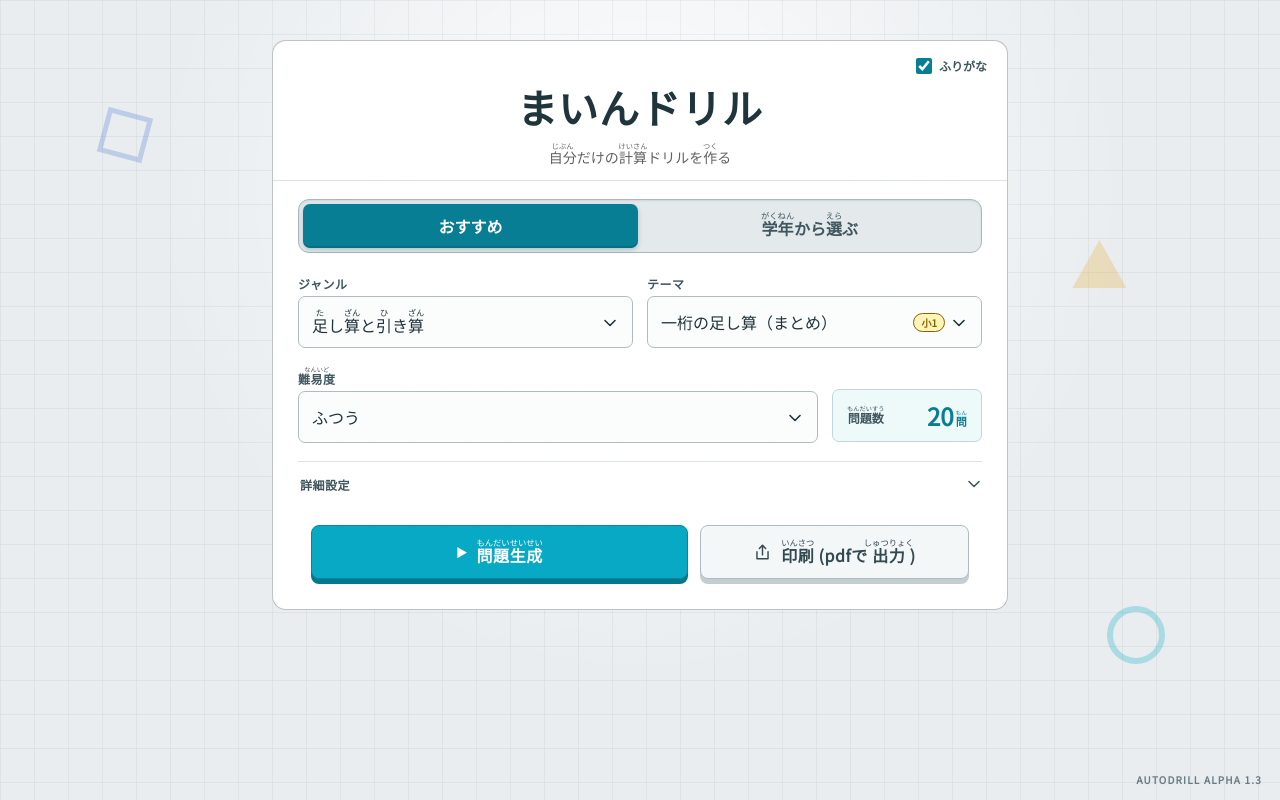
it: AutoDrillApp › never renders furigana inside detailed settings or its grading modal
This screenshot has width=1280, height=800.
Check: the checkbox labelled "ふりがな" is checked, box [916,58,932,74]
Check: the element with class "advanced-settings" is shown, box [298,461,982,506]
Click the heading "詳細設定": click(325, 484) [300,476,980,492]
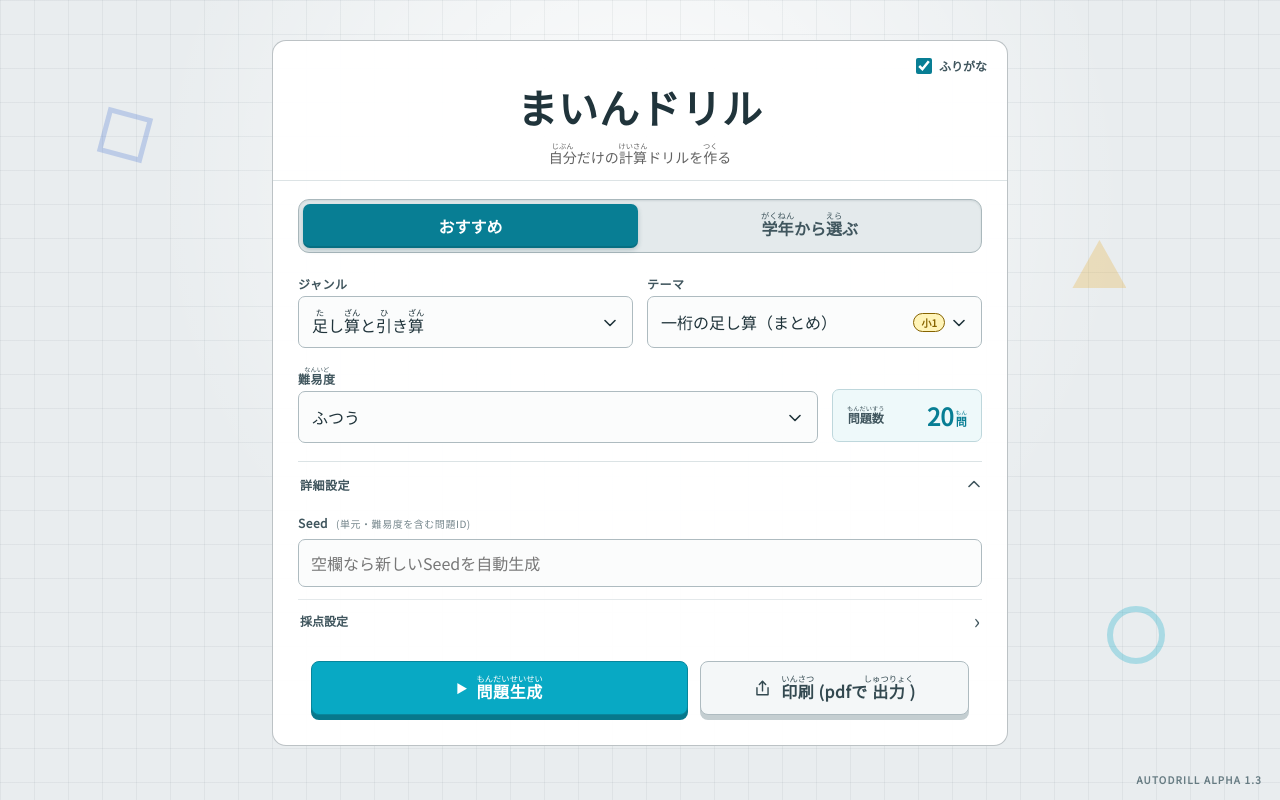
Click the button "採点設定 ›": click(324, 620) [298,599,982,641]
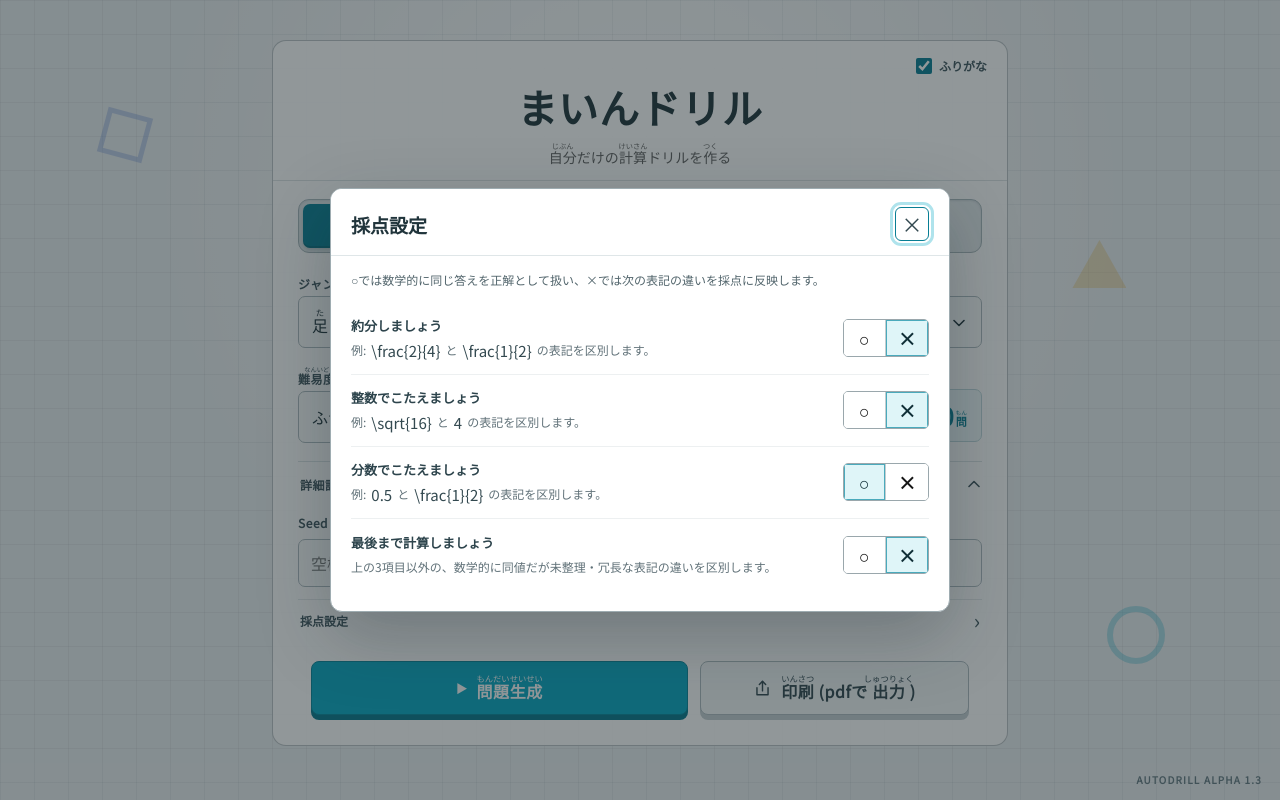
Check: the dialog "採点設定" shows "約分しましょう", box [351,316,442,335]
Check: the dialog "採点設定" shows "整数でこたえましょう", box [351,388,481,407]
Check: the dialog "採点設定" shows "分数でこたえましょう", box [351,460,481,479]
